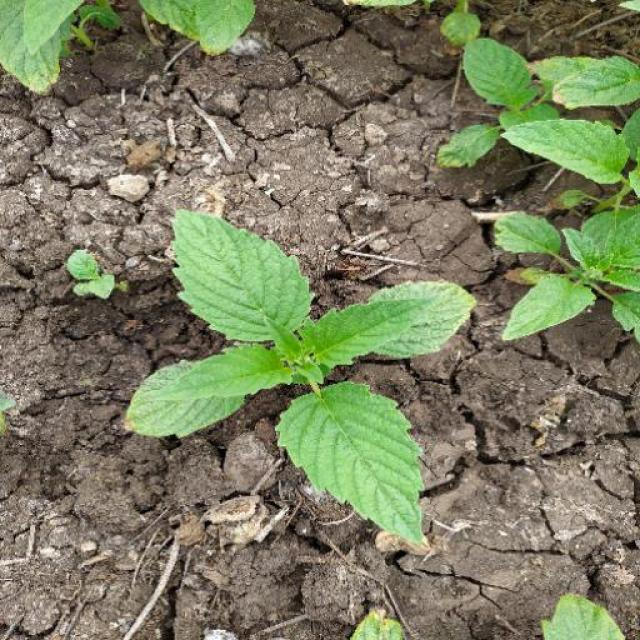crop: (128, 215, 478, 556), (447, 30, 635, 189), (486, 196, 639, 346)
